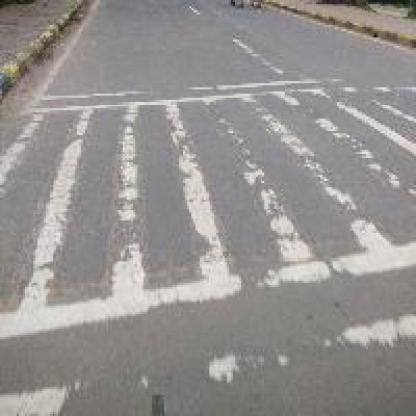Speed Bump: (2, 77, 408, 414)
